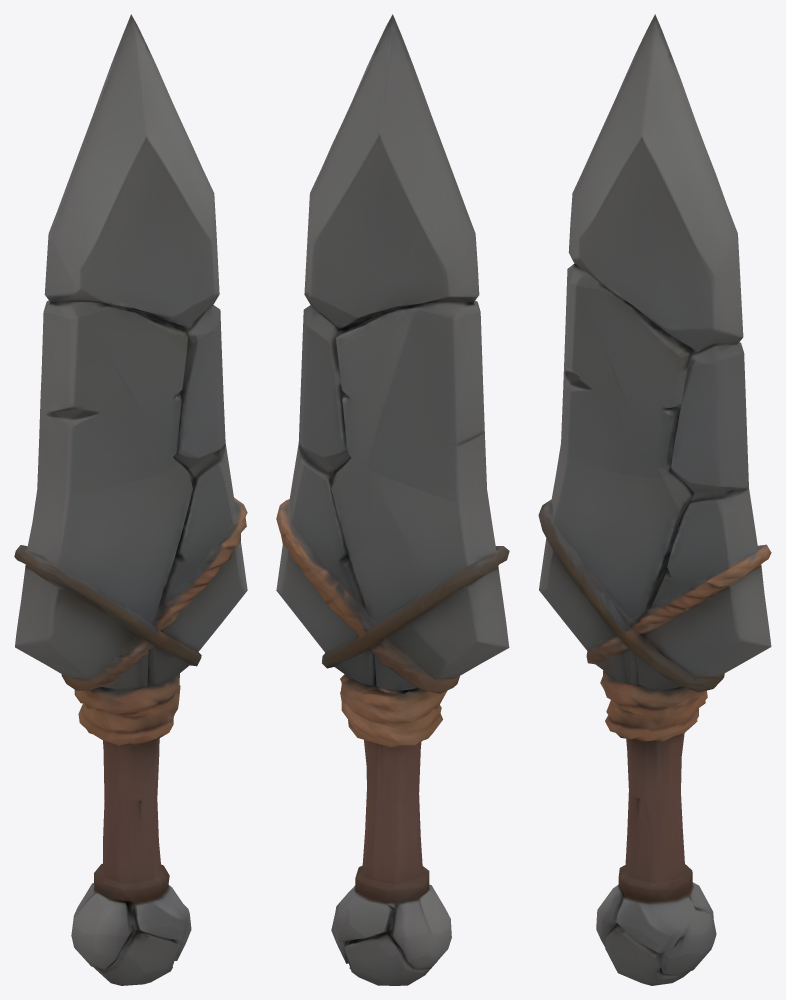
File: base_basic_shaded.fbx
The picture shows the model from 3 angles, left to right: view 1: azimuth 30°, elevation 25°; view 2: azimuth 150°, elevation 25°; view 3: azimuth 330°, elevation 25°; orthographic projection.
Visible parts, largest first — view 1: model; view 2: model; view 3: model.
Boxes of the visible parts, <box> form: model: <box>14,14,247,985</box>; model: <box>276,14,509,985</box>; model: <box>538,14,771,985</box>.
Bounding box in the file's own units: 43.96 × 174 × 19.29.
